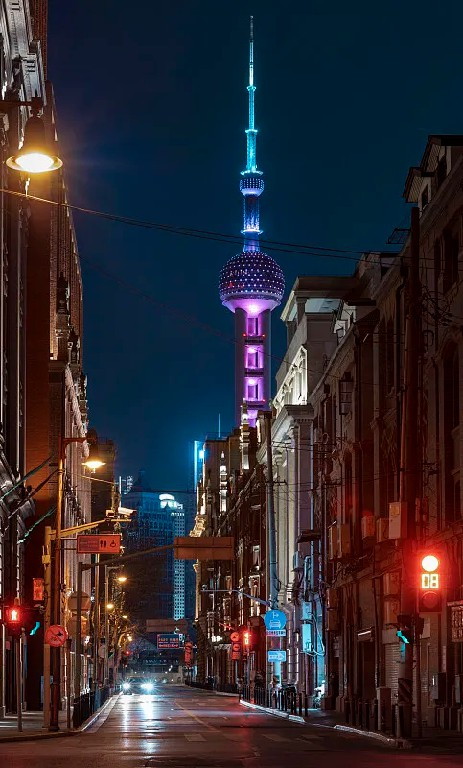Oriental: (219, 10, 285, 429)
